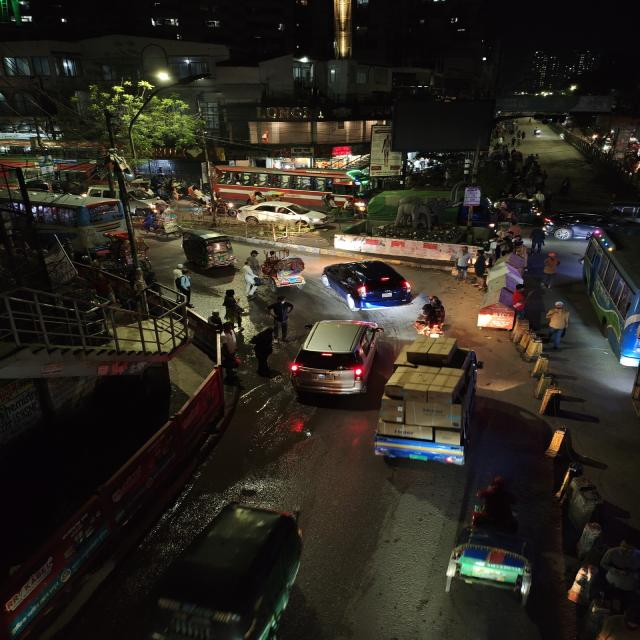bus: (582, 221, 640, 371), (215, 166, 368, 207)
car: (288, 315, 387, 399), (323, 258, 415, 310), (240, 202, 324, 228), (550, 211, 599, 241)
cng: (138, 501, 320, 640), (179, 230, 239, 272), (609, 199, 640, 223), (518, 199, 547, 224)
motorcycle: (412, 295, 452, 340)
pedestrian: (247, 326, 279, 372), (544, 300, 572, 350), (265, 296, 297, 338), (448, 246, 476, 284), (471, 251, 493, 291), (538, 250, 560, 288), (529, 226, 546, 254), (558, 176, 574, 198)
pickup_van: (375, 342, 489, 470)
rickshaw: (442, 480, 541, 604), (256, 252, 311, 294)
